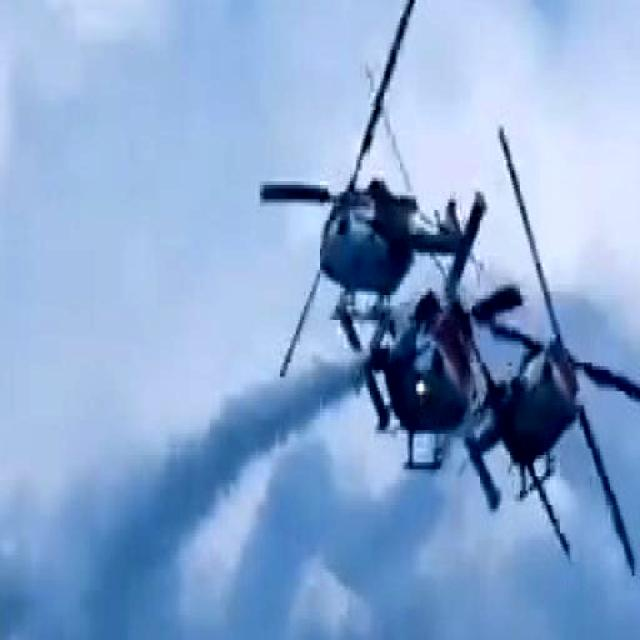drone: (258, 69, 499, 291), (488, 312, 640, 614), (349, 232, 490, 486)
